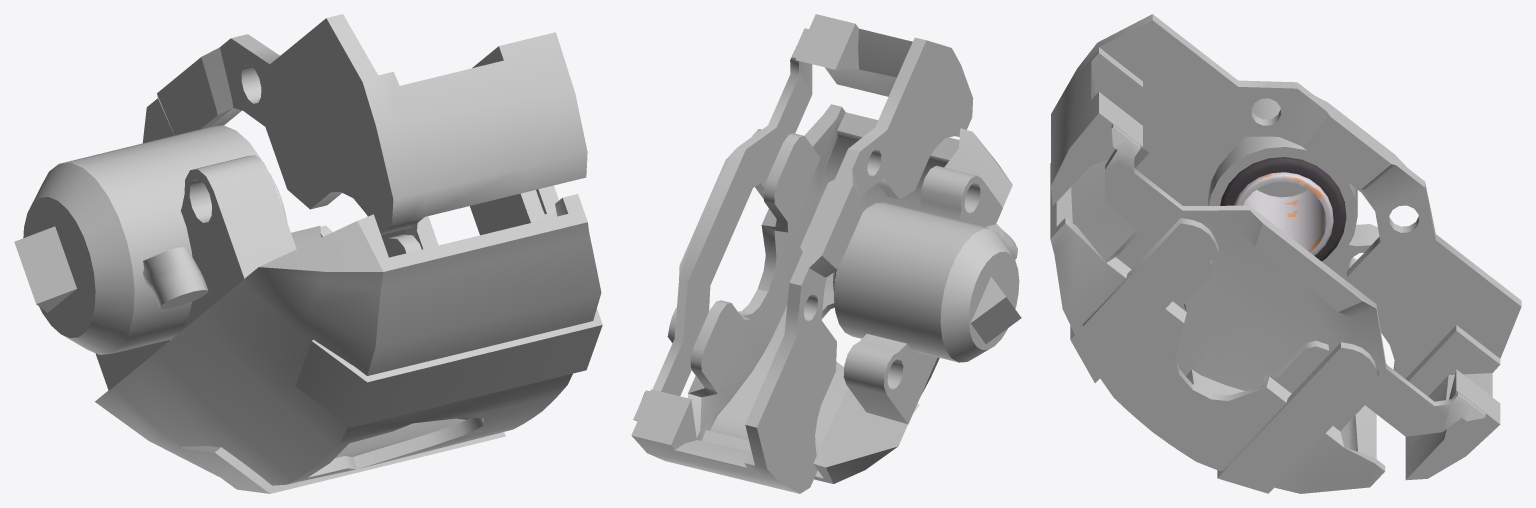
File: Brake_Caliper.fbx
The picture shows the model from 3 angles, left to right: view 1: azimuth 30°, elevation 25°; view 2: azimuth 150°, elevation 25°; view 3: azimuth 270°, elevation 25°; orthographic projection. The views are drawn at different scales.
Visible parts, largest first — view 1: Brake_Caliper; view 2: Brake_Caliper; view 3: Brake_Caliper.
Part boxes in pixels (<box>): Brake_Caliper: <box>14,14,602,493</box>; Brake_Caliper: <box>631,14,1021,493</box>; Brake_Caliper: <box>1050,14,1521,493</box>.
Bounding box in the file's own units: 265 × 308 × 327.
